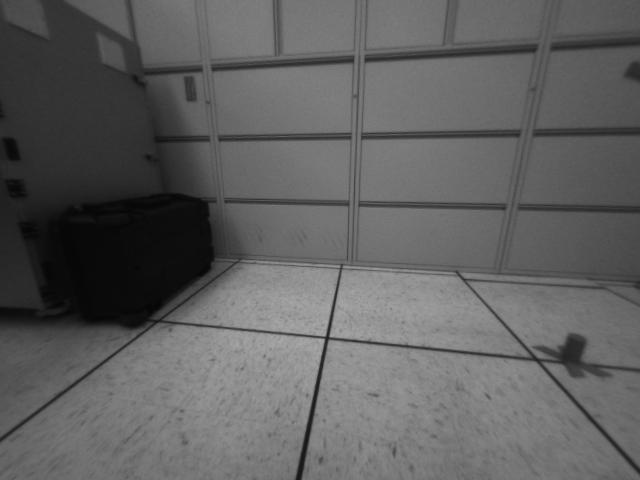X: (532, 331, 615, 379)
